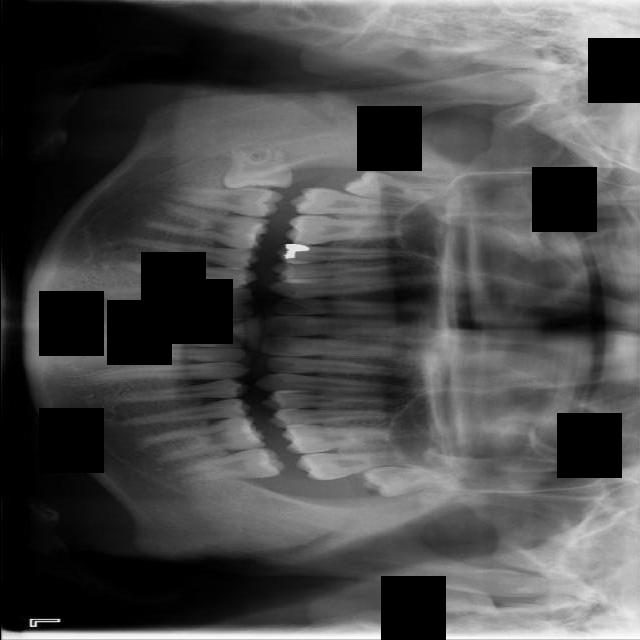3M ESPE Implant: (340, 168, 447, 205)
52: (275, 241, 320, 267)
73: (32, 612, 60, 626)
BioHorizons Implant: (294, 452, 399, 481)
BioLife Implant: (359, 460, 466, 499)
Blue Sky Bio Implant: (169, 446, 285, 485)
Caries: (288, 187, 414, 217)
Implant: (165, 183, 284, 218)
Keystone Dental Implant: (221, 148, 294, 193)
